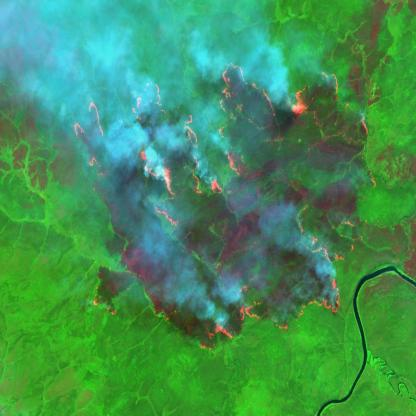fire: (69, 56, 381, 354)
